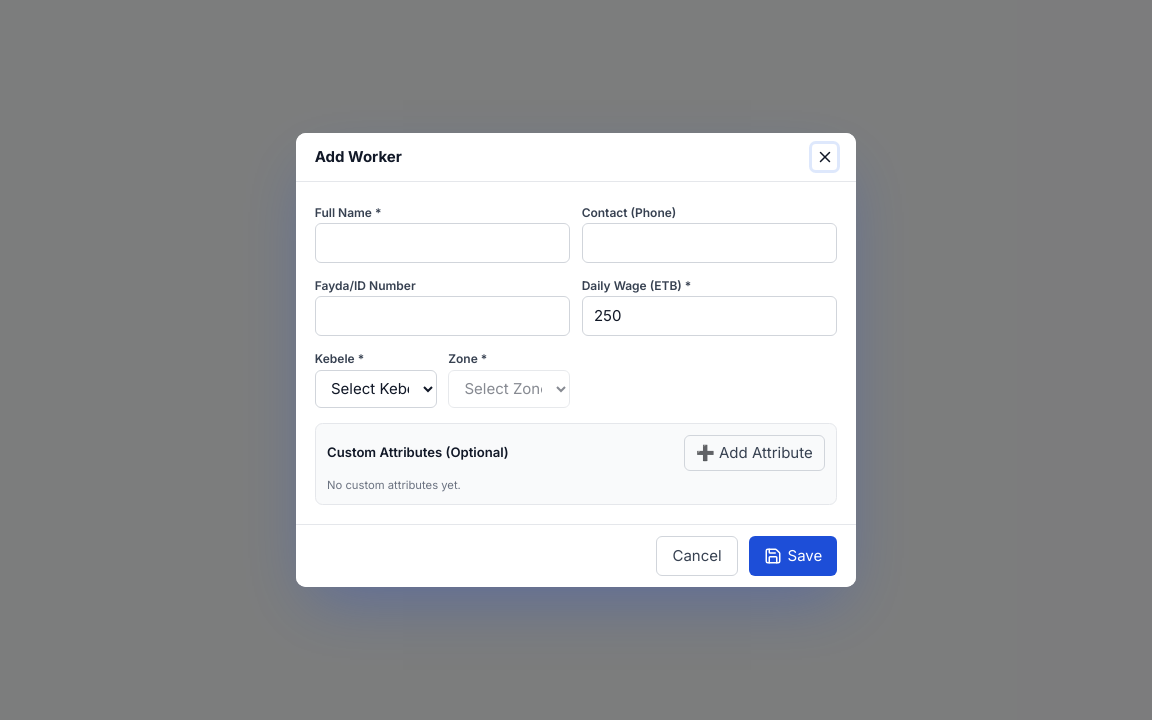
Test: Worker form validation (real component) › rejects empty submit with required-field errors and does not create
Click the button "Save": (793, 556) x1=749 y1=536 x2=837 y2=576
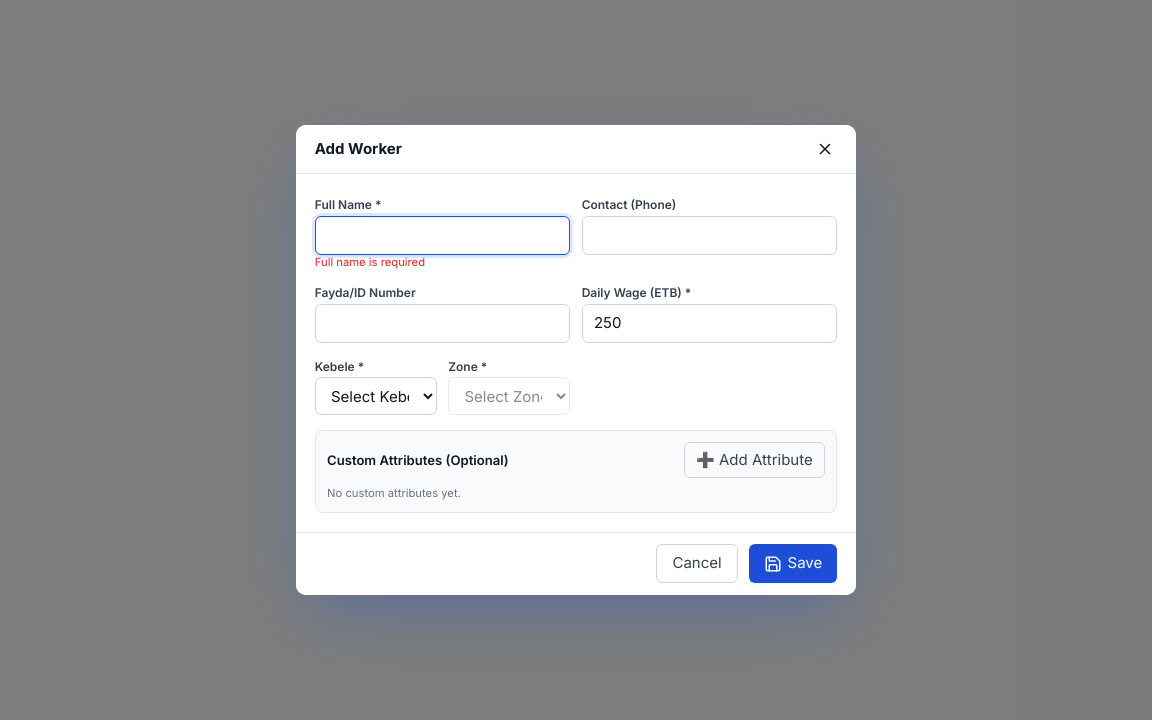
Check: the text "Full name is required" is shown, box x1=315 y1=255 x2=425 y2=269
